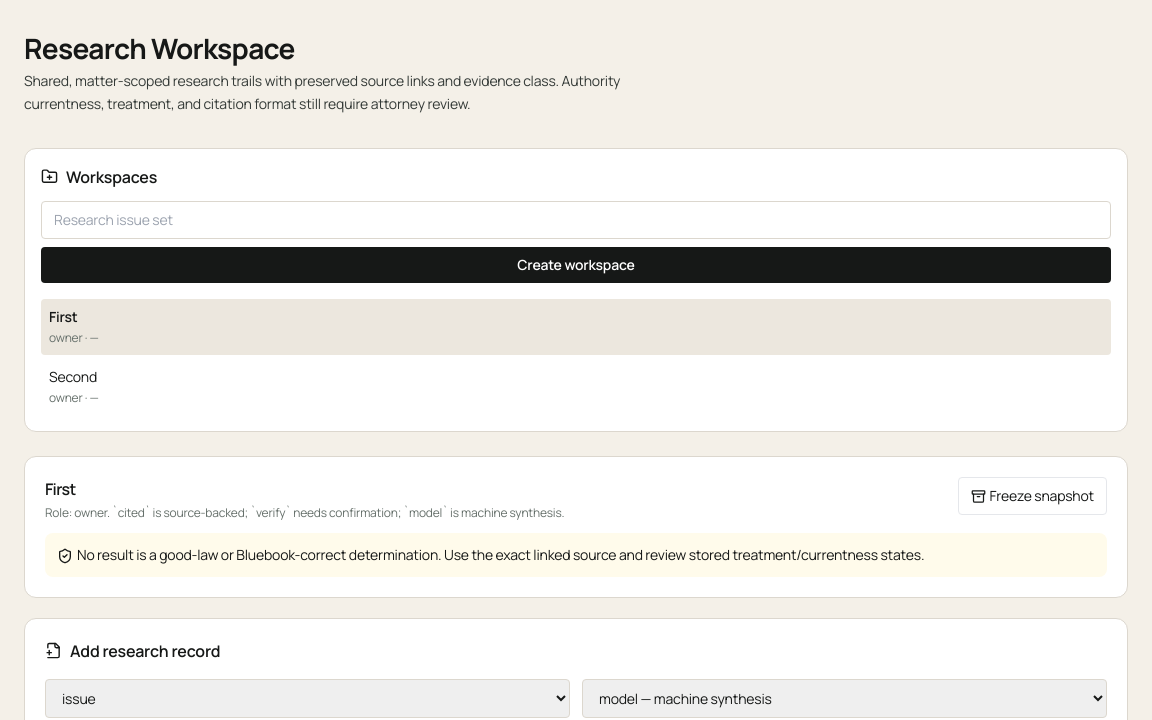
Test: keeps a slower workspace response from replacing the selected workspace
The width and height of the screenshot is (1152, 720).
Click the button "Second owner · —" at [73, 376], box x1=41 y1=358 x2=1111 y2=414
(page scrolled)
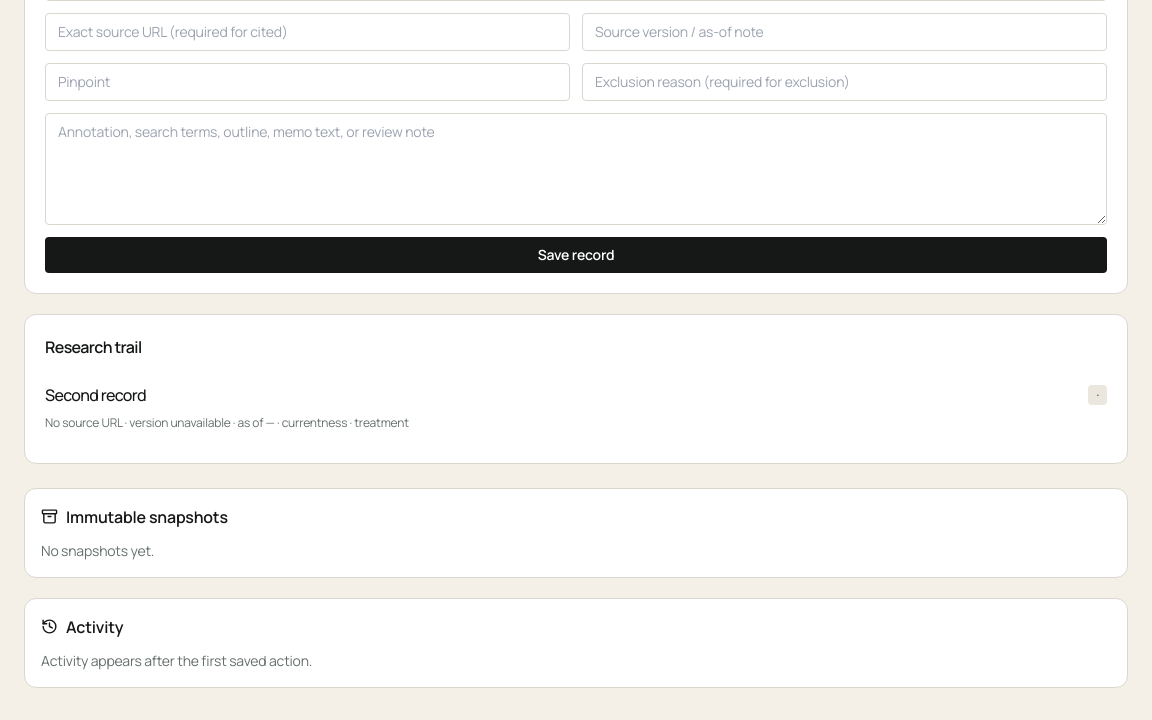
Expected: the heading "Second record" is shown, x1=45 y1=382 x2=146 y2=406
